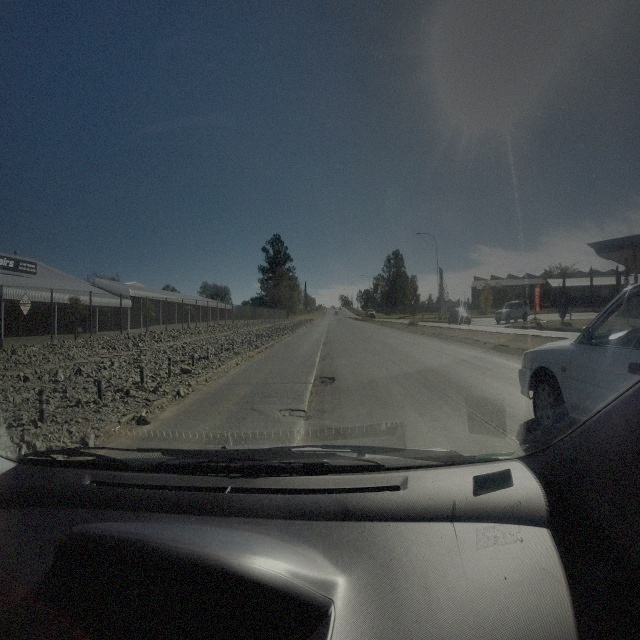pothole: (279, 406, 311, 423), (311, 373, 335, 388)
